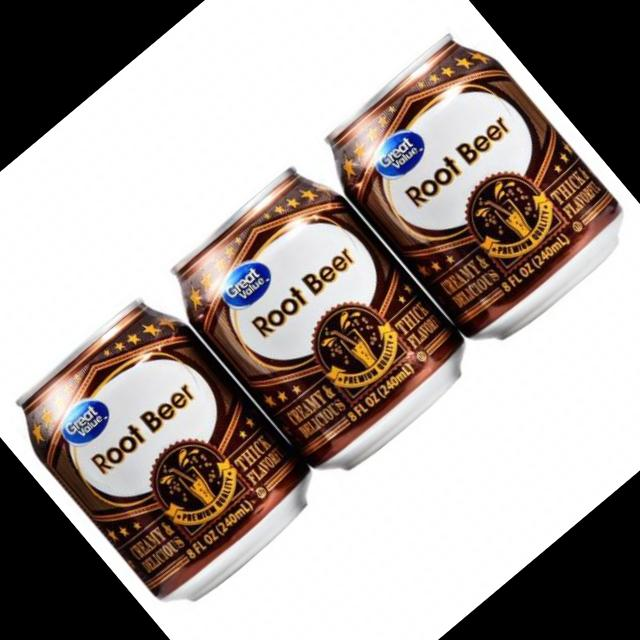Kaleng: (305, 16, 640, 361), (151, 150, 483, 491), (0, 280, 330, 622)
